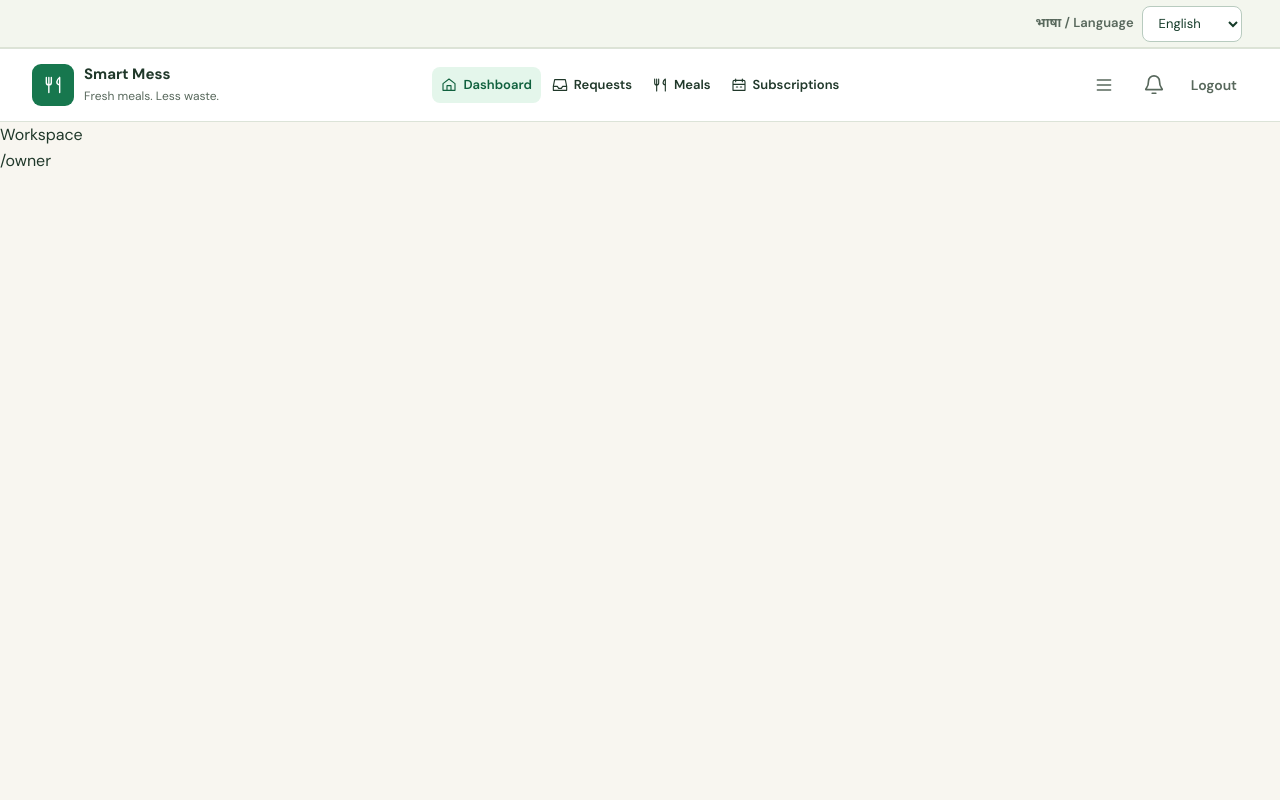
Test case: closes the navigation drawer when its backdrop is clicked
Click the button named "More navigation". click: {"x": 1104, "y": 85}
box: [1084,65,1124,105]
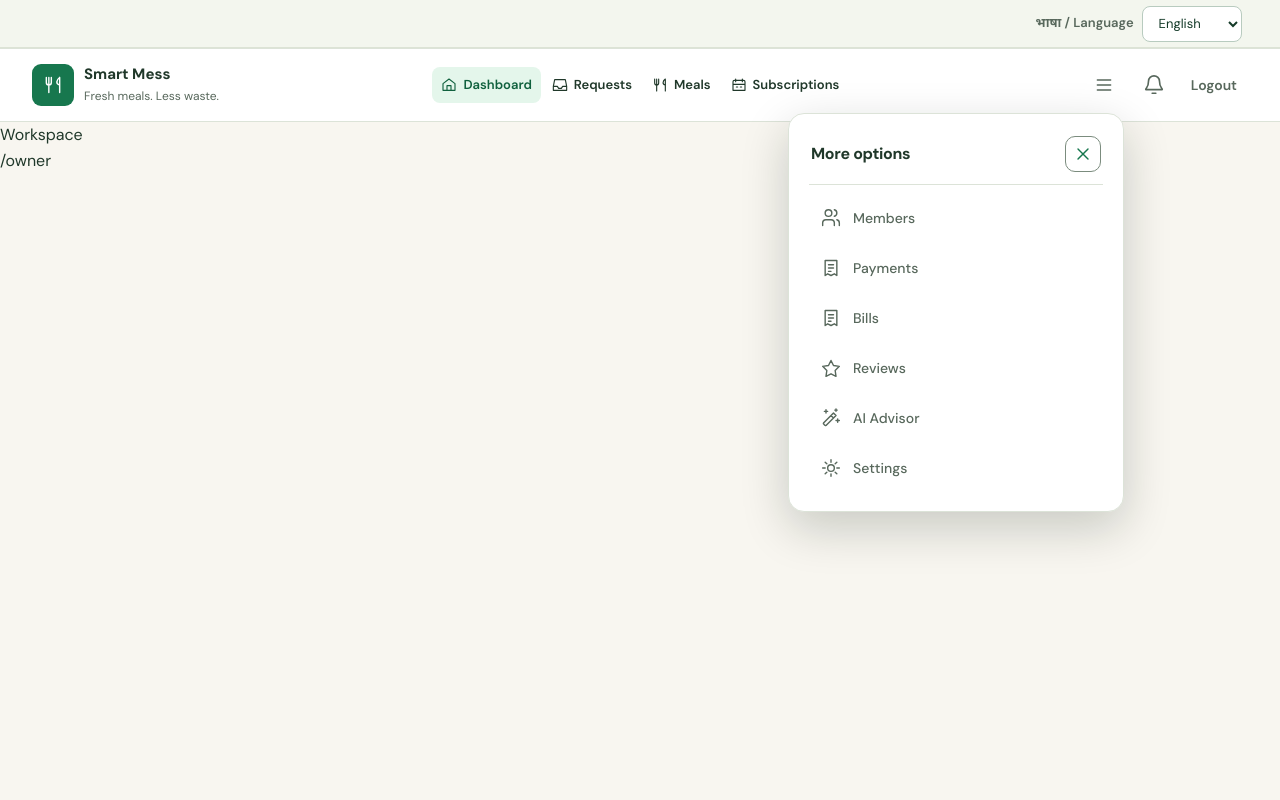
Expected: the dialog is shown, [788,113,1124,512]
Click the button with class "ui-drawer-backdrop". click: {"x": 640, "y": 400}
box: [0,0,1279,799]
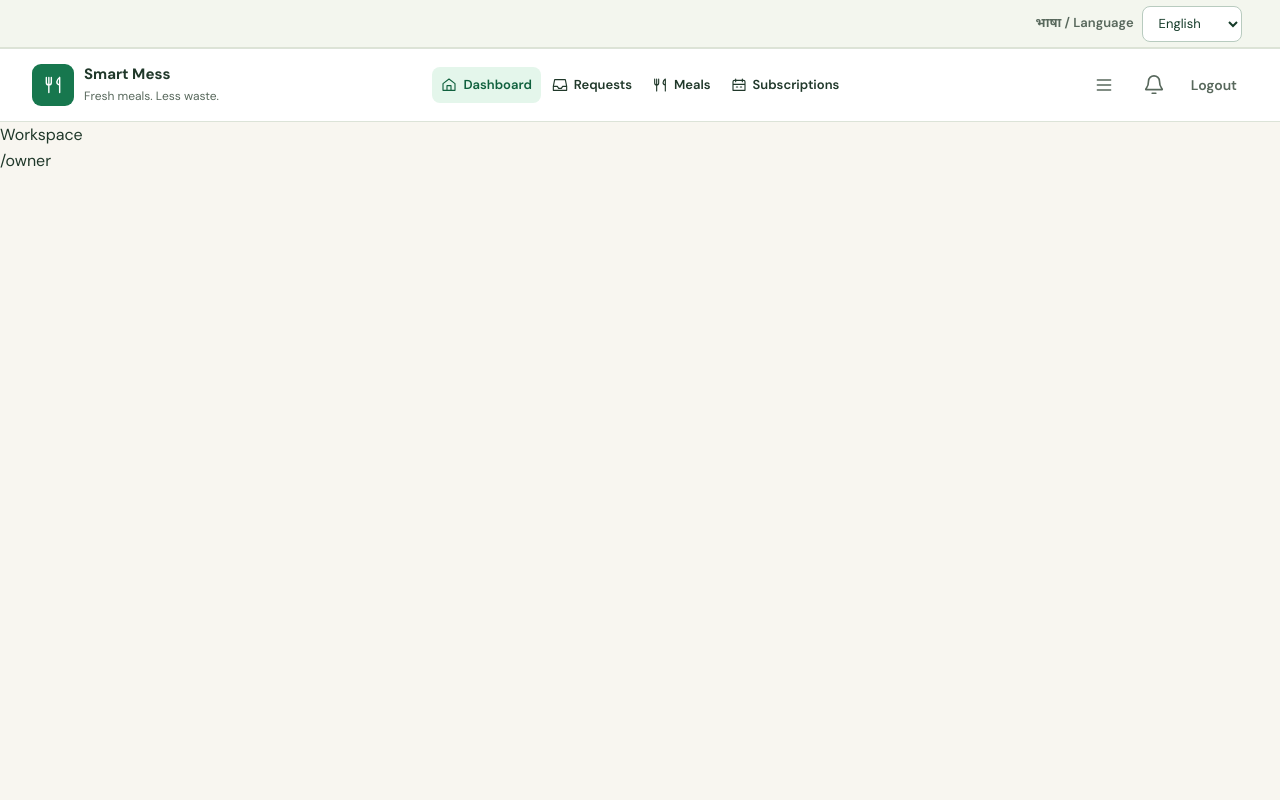
Expected: the dialog is gone
